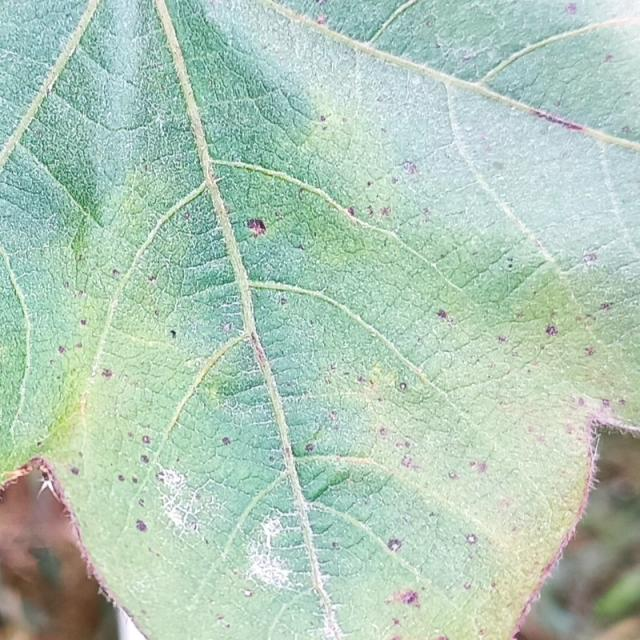Bacterial_Blight: (520, 436, 603, 627), (205, 356, 274, 402), (2, 456, 57, 506), (379, 586, 431, 634), (248, 549, 291, 588), (234, 204, 271, 240), (531, 107, 582, 130), (578, 299, 618, 325), (304, 476, 339, 504), (2, 465, 32, 491), (22, 457, 51, 482), (389, 588, 420, 609), (436, 309, 455, 325), (402, 161, 418, 175), (388, 538, 402, 552), (402, 455, 416, 469), (215, 615, 230, 628), (186, 515, 199, 530), (421, 207, 432, 223), (135, 519, 148, 532), (545, 324, 558, 336), (72, 288, 86, 299), (492, 160, 506, 171), (565, 3, 578, 14), (498, 499, 511, 510), (583, 253, 597, 263), (316, 13, 328, 24), (477, 462, 488, 474), (101, 368, 113, 379), (380, 206, 391, 217), (222, 322, 233, 333), (366, 205, 375, 218), (211, 177, 224, 186), (147, 276, 158, 286), (584, 347, 596, 356), (70, 466, 80, 476), (497, 335, 508, 344), (46, 82, 54, 94), (437, 309, 447, 318), (221, 436, 231, 445), (305, 443, 315, 452), (603, 54, 613, 63), (467, 534, 476, 544), (448, 471, 458, 480), (347, 206, 355, 217), (600, 302, 611, 310), (58, 345, 67, 354), (358, 375, 367, 384), (142, 435, 151, 444), (577, 397, 586, 406), (379, 427, 388, 436), (140, 454, 149, 463), (463, 581, 472, 590), (622, 126, 632, 134), (461, 55, 472, 62), (244, 590, 253, 598), (329, 411, 337, 420), (279, 297, 287, 306), (138, 498, 146, 507), (391, 618, 400, 626), (316, 0, 328, 6), (602, 399, 611, 407), (515, 312, 525, 319), (170, 329, 177, 339), (112, 269, 120, 277), (183, 213, 191, 221), (399, 382, 407, 390), (332, 541, 340, 549), (477, 628, 485, 636), (195, 492, 202, 501), (75, 342, 83, 349), (80, 318, 87, 326), (297, 244, 305, 251), (216, 615, 224, 622), (618, 399, 626, 406), (118, 474, 125, 482), (547, 124, 554, 132), (390, 636, 403, 640), (132, 476, 138, 484), (624, 91, 632, 97), (319, 115, 326, 121), (381, 127, 387, 134), (507, 257, 513, 264), (366, 181, 372, 187), (154, 310, 159, 317)
Cotton: (0, 0, 639, 639)
